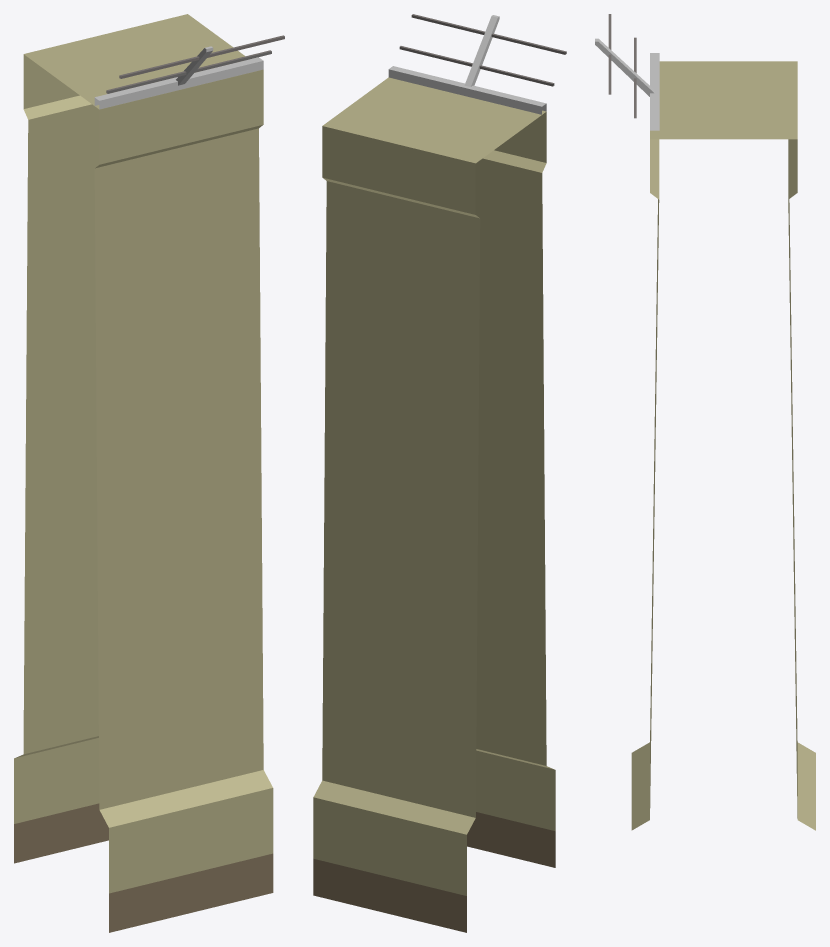
Rendered from SM_Wall_Big_200.FBX.
The picture shows the model from 3 angles, left to right: view 1: azimuth 30°, elevation 25°; view 2: azimuth 150°, elevation 25°; view 3: azimuth 270°, elevation 25°; orthographic projection. The views are drawn at different scales.
Parts seen in each view (by area): view 1: SM_Wall_Big_200; view 2: SM_Wall_Big_200; view 3: SM_Wall_Big_200.
Boxes of the visible parts, <box> form: SM_Wall_Big_200: <box>14,14,284,932</box>; SM_Wall_Big_200: <box>313,14,566,932</box>; SM_Wall_Big_200: <box>595,14,815,830</box>.
Bounding box in the file's own units: 200 × 240 × 1022.
